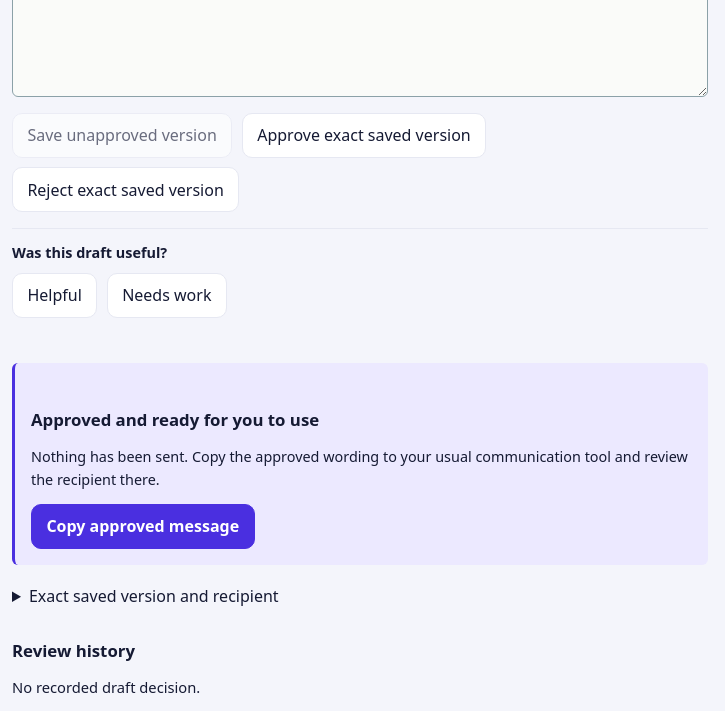
Test: offers manual copying after clipboard failure without claiming success
The image size is (725, 711).
(page scrolled)
Click the button "Copy approved message".
click(143, 526)  # box [31,504,255,549]
(page scrolled)
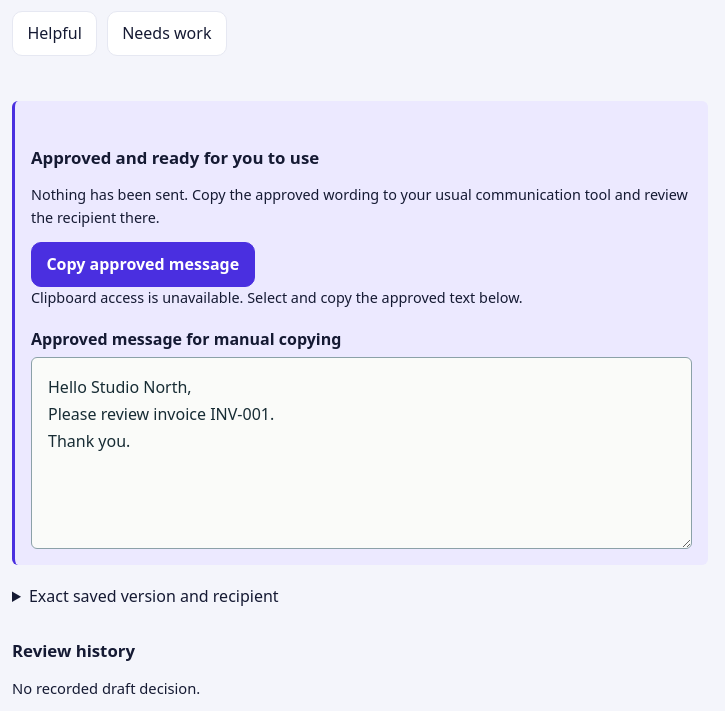
Now the text "Clipboard access is unavailable. Select and copy the approved text below." is shown, box [31,288,523,307]
